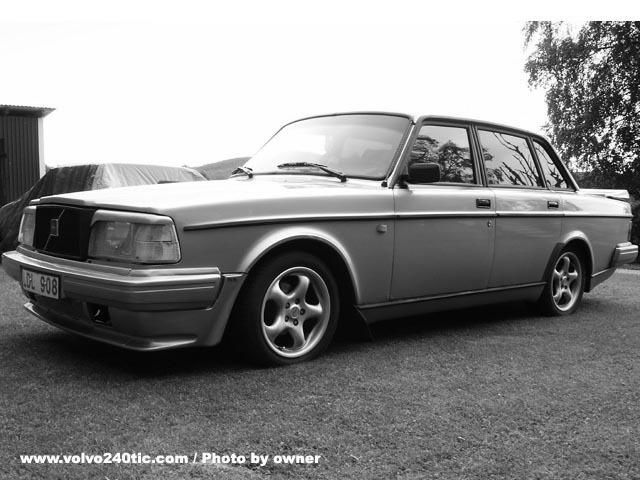car: (3, 111, 639, 368)
